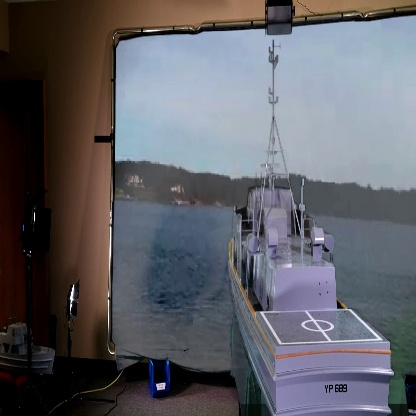YP689: (228, 48, 397, 416)
